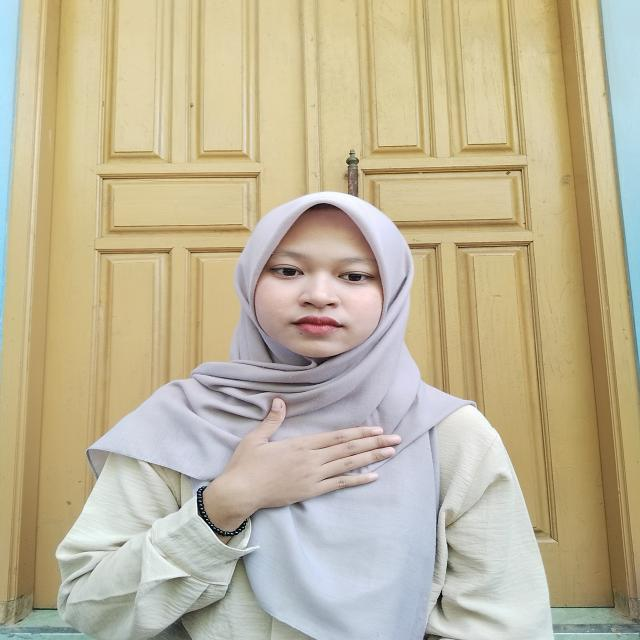tolong: (174, 393, 404, 536)
